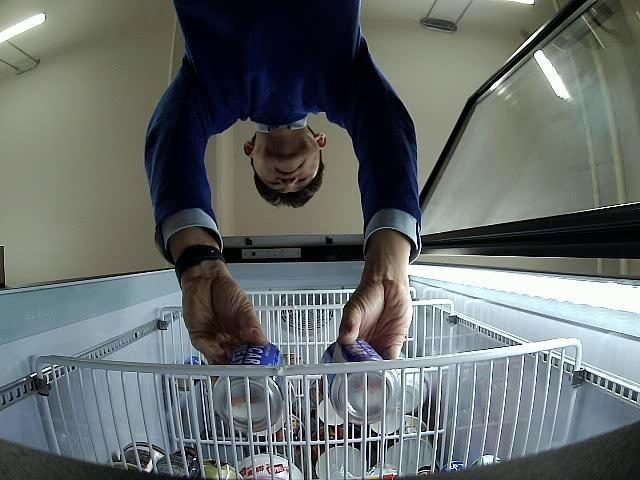13_pocariSweat: (213, 341, 286, 436), (320, 339, 400, 425)
